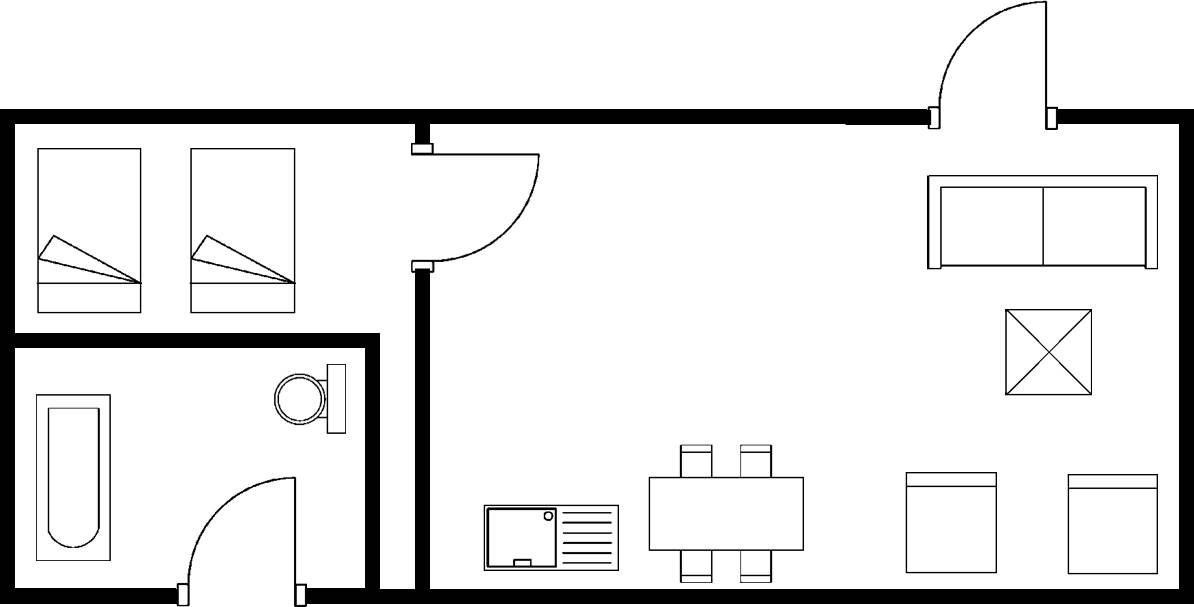bed: (184, 141, 301, 322), (31, 141, 145, 319)
coffee_table: (995, 301, 1099, 405)
dining_table: (640, 435, 811, 590)
large_sink: (266, 359, 351, 442)
large_sofa: (920, 165, 1167, 278)
sink: (476, 497, 624, 577)
small_sofa: (895, 467, 1006, 579), (1062, 468, 1166, 583)
tub: (30, 387, 120, 569)
